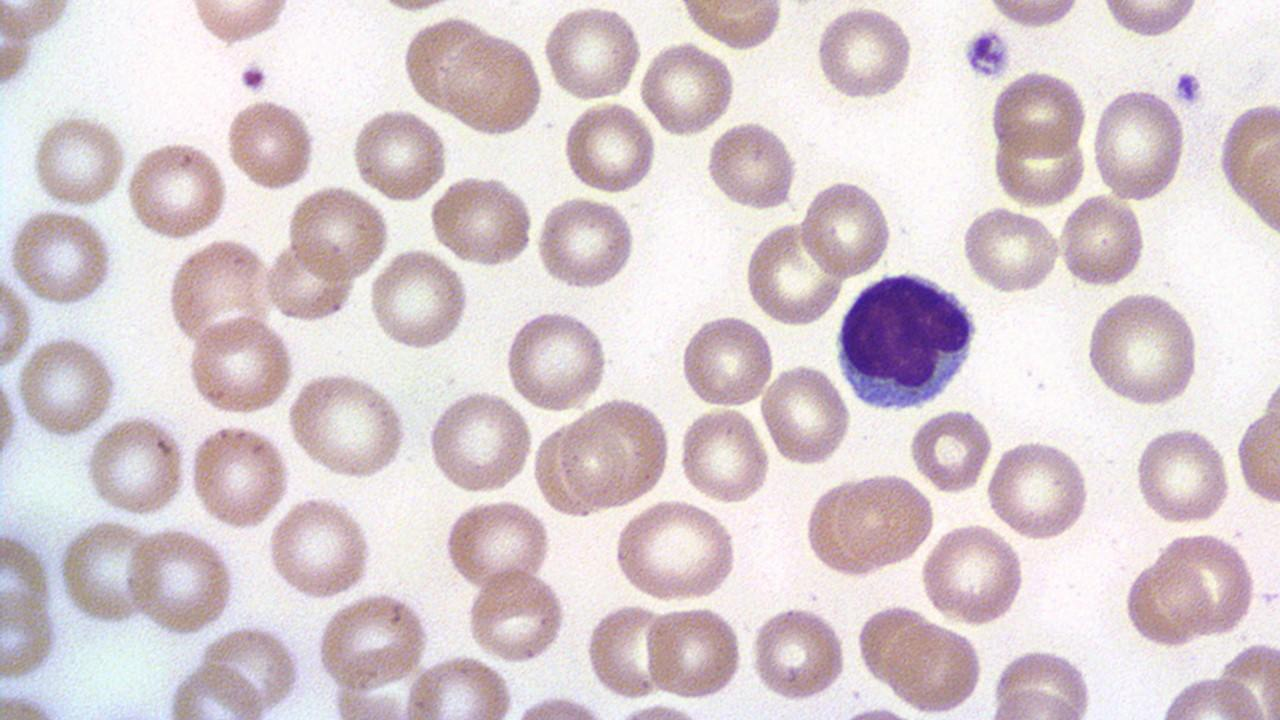Platelets: (961, 24, 1014, 83), (1171, 67, 1205, 109)
RBC: (1083, 289, 1203, 409), (284, 369, 410, 481), (612, 496, 740, 604), (431, 23, 546, 135), (163, 238, 277, 350), (560, 396, 672, 506), (398, 12, 508, 123), (1088, 83, 1188, 203), (314, 591, 431, 690), (426, 387, 534, 494), (440, 495, 556, 594), (266, 494, 374, 600), (502, 306, 608, 414), (984, 436, 1092, 542), (918, 521, 1027, 625), (184, 316, 297, 416), (129, 527, 234, 634), (188, 422, 292, 530), (368, 246, 471, 352), (742, 220, 844, 327), (7, 207, 117, 306), (1157, 530, 1257, 638), (124, 139, 231, 239), (15, 334, 118, 437), (86, 412, 186, 517), (1134, 422, 1234, 527), (284, 185, 390, 283), (541, 3, 643, 104), (831, 472, 936, 570), (58, 518, 154, 625), (798, 175, 894, 282), (814, 4, 916, 104), (464, 568, 568, 666), (428, 174, 536, 268), (642, 604, 746, 701), (532, 194, 637, 290), (758, 360, 852, 467), (637, 39, 737, 138), (748, 604, 848, 703), (678, 310, 776, 411), (349, 106, 450, 202), (885, 618, 985, 714), (958, 204, 1064, 294), (29, 112, 127, 209), (988, 67, 1088, 161), (676, 406, 770, 506), (224, 95, 318, 193), (560, 101, 659, 194), (582, 600, 674, 700), (1057, 191, 1149, 290), (702, 119, 798, 213), (1218, 97, 1280, 233), (992, 122, 1088, 207), (908, 404, 994, 495), (263, 240, 356, 324), (1123, 556, 1205, 650), (164, 661, 267, 718), (677, 0, 786, 52), (1156, 674, 1272, 720), (1, 586, 57, 681), (0, 530, 52, 628), (1233, 404, 1279, 509), (1097, 0, 1205, 40), (1242, 130, 1280, 241), (986, 683, 1086, 719), (0, 264, 32, 376), (979, 0, 1089, 30), (0, 2, 35, 94), (0, 356, 20, 478)
WBC: (831, 266, 984, 414)
